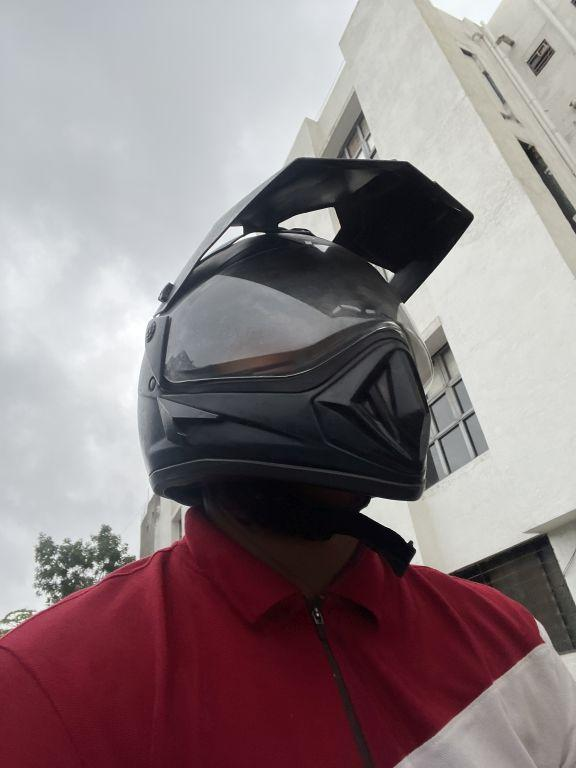helmet: (114, 134, 484, 566)
